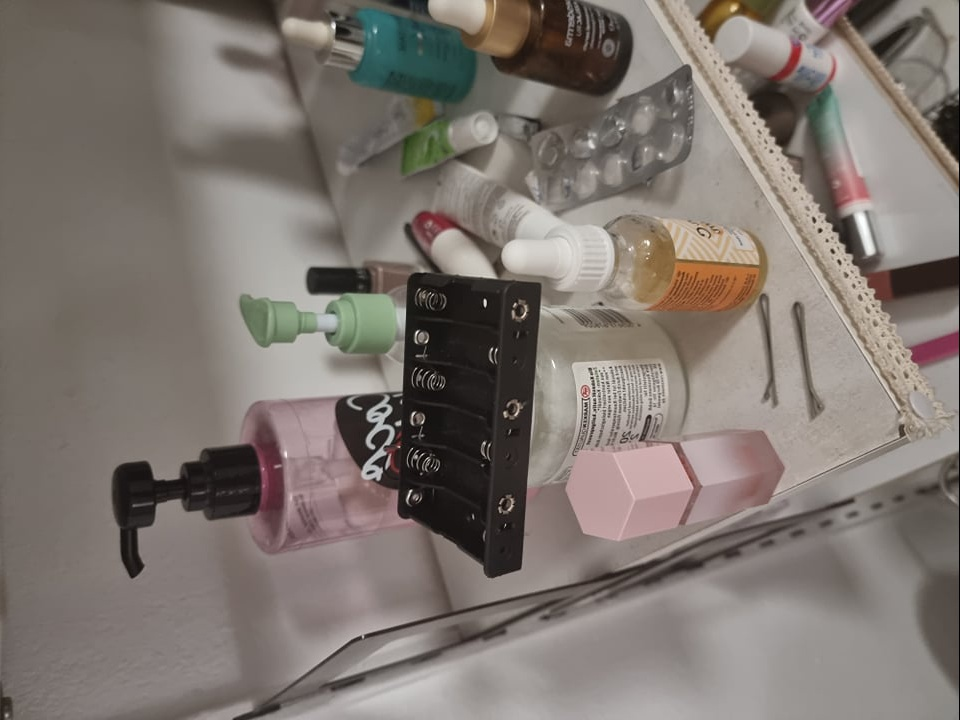BATTERY BOX: (395, 269, 544, 579)
